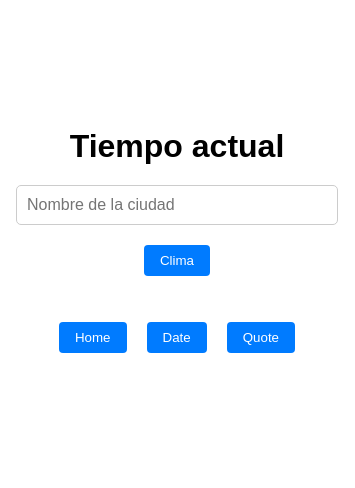
it: WeatherAPI › Should render weather data from mockup
Type "Madrid" into the field with placeholder "Nombre de la ciudad". click: (177, 205)
box: [16,185,338,225]
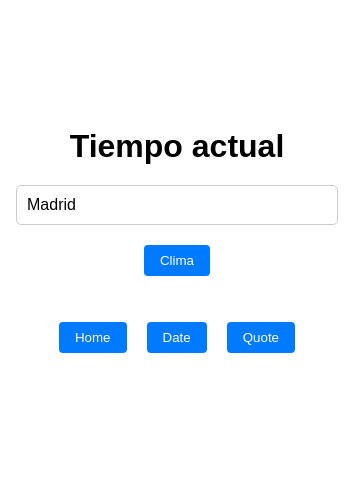
Click the button "Clima". click: (177, 261)
box: [144,245,210,276]
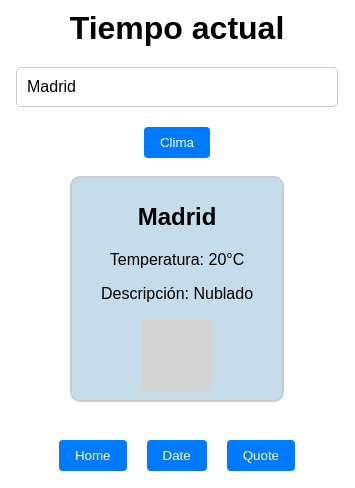
Expected: the text "Temperatura: 20°C" is shown, [110,251,244,268]
